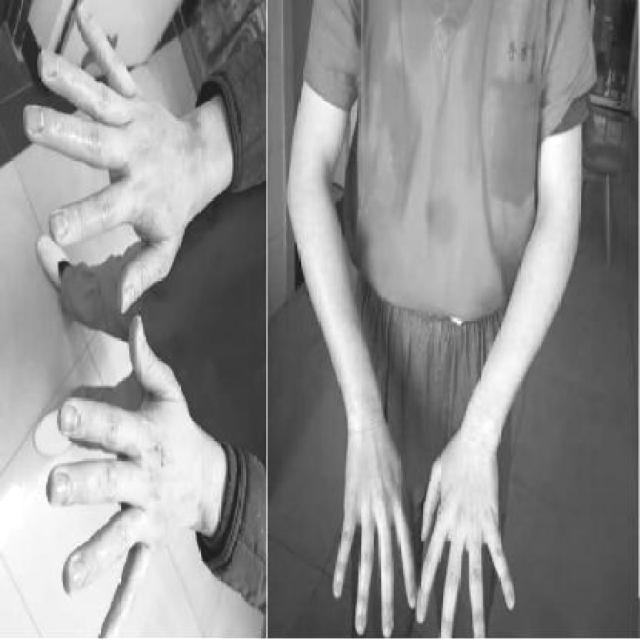hand_noglove: (21, 1, 187, 314), (43, 312, 194, 638), (418, 430, 518, 638), (332, 437, 416, 635)
